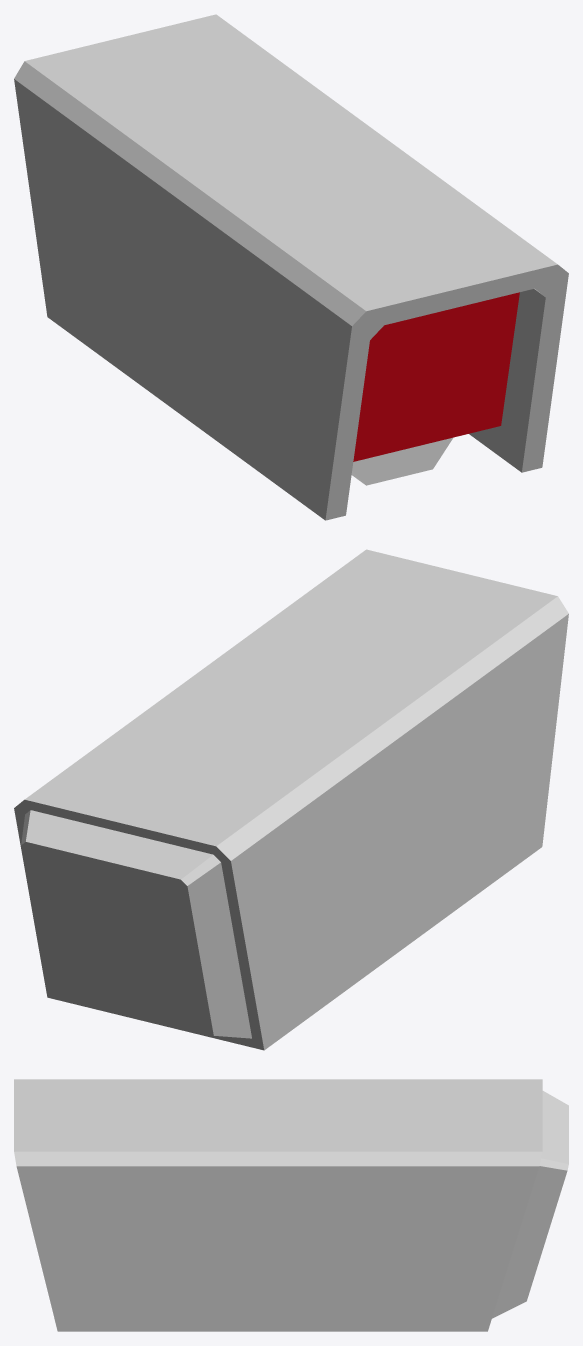
Rendered from Robot_Body_01.fbx.
3 renders of one model, top to bottom at view 1: azimuth 30°, elevation 25°; view 2: azimuth 150°, elevation 25°; view 3: azimuth 270°, elevation 25°, orthographic. The views are drawn at different scales.
Visible parts, largest first — view 1: Robot_Body_01; view 2: Robot_Body_01; view 3: Robot_Body_01.
Boxes of the visible parts, x1,y1,x2,y2 form: Robot_Body_01: (14,14,568,520); Robot_Body_01: (14,549,568,1050); Robot_Body_01: (14,1079,568,1331).
Size of the model in its own units: 73.83 by 76.57 by 212.
